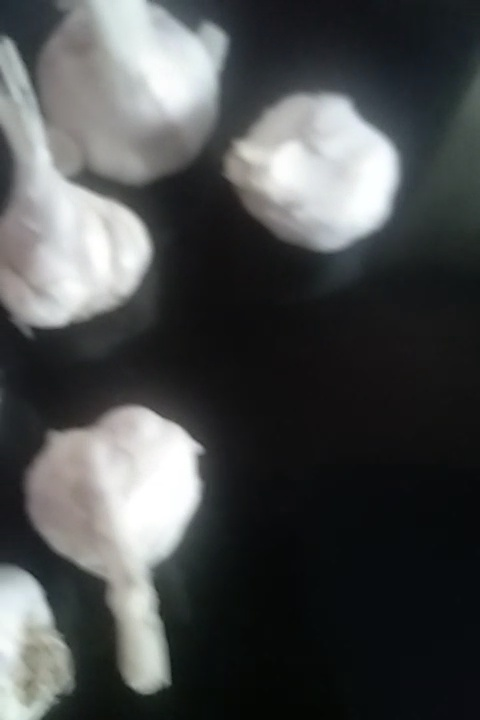garlic: (20, 416, 225, 680), (1, 62, 154, 316), (42, 1, 241, 188), (230, 90, 408, 261), (1, 569, 88, 718)
